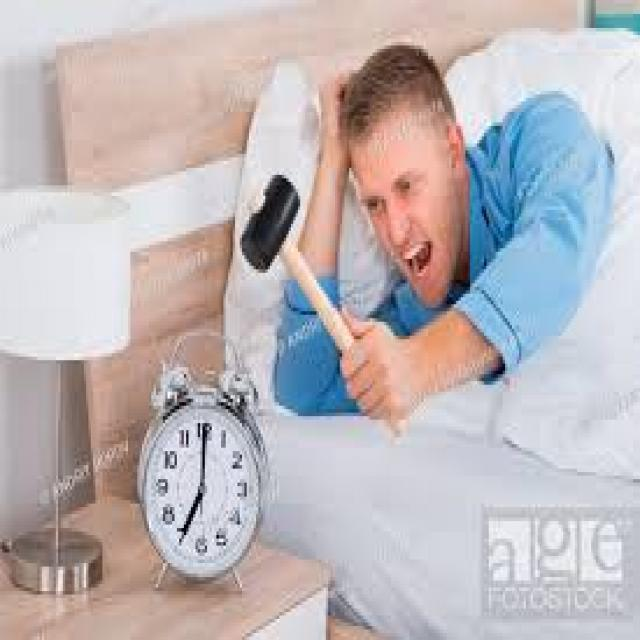hammer: (232, 162, 408, 446)
